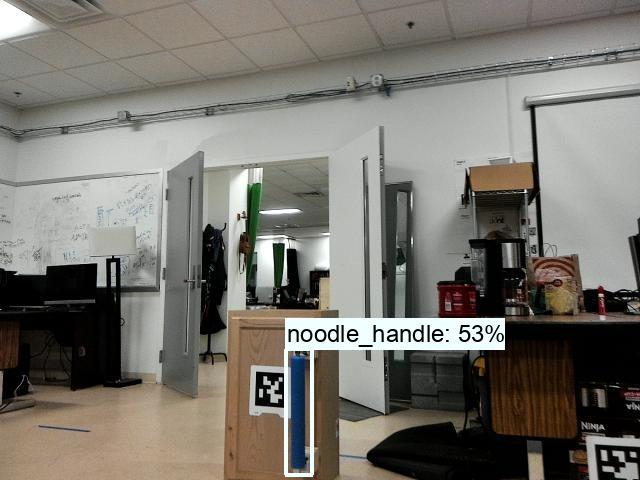noodle_handle: (284, 353, 310, 471)
